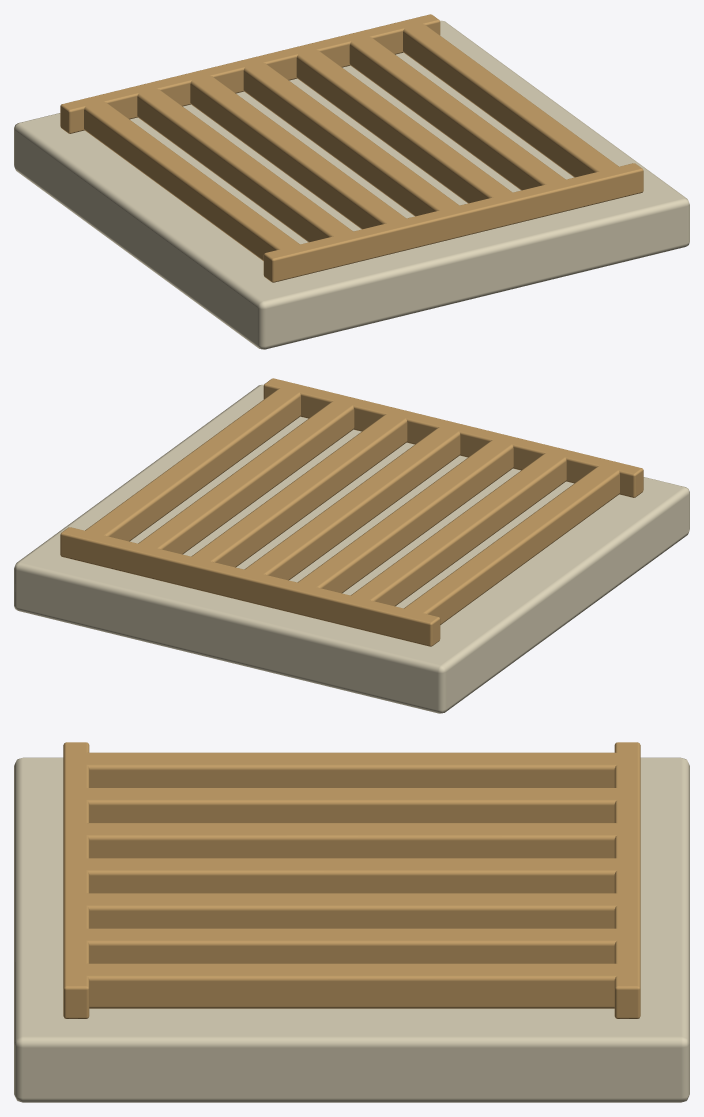
The model's file is fantasy-bathhouse-and-thermal-sanctuary-fantasy-bathho-16aa1c38__29453.glb.
3 views of the same model, one above another, from view 1: azimuth 30°, elevation 25°; view 2: azimuth 150°, elevation 25°; view 3: azimuth 270°, elevation 25° (orthographic). The views are drawn at different scales.
Parts seen in each view (by area): view 1: fantasy-bathhouse-and-thermal-sanctuary-drain-cover; view 2: fantasy-bathhouse-and-thermal-sanctuary-drain-cover; view 3: fantasy-bathhouse-and-thermal-sanctuary-drain-cover.
Boxes of the visible parts, x1,y1,x2,y2 form: fantasy-bathhouse-and-thermal-sanctuary-drain-cover: (14, 14, 689, 349); fantasy-bathhouse-and-thermal-sanctuary-drain-cover: (14, 378, 689, 713); fantasy-bathhouse-and-thermal-sanctuary-drain-cover: (14, 742, 689, 1102).
Bounding box in the file's own units: 0.65 × 0.105 × 0.65.
